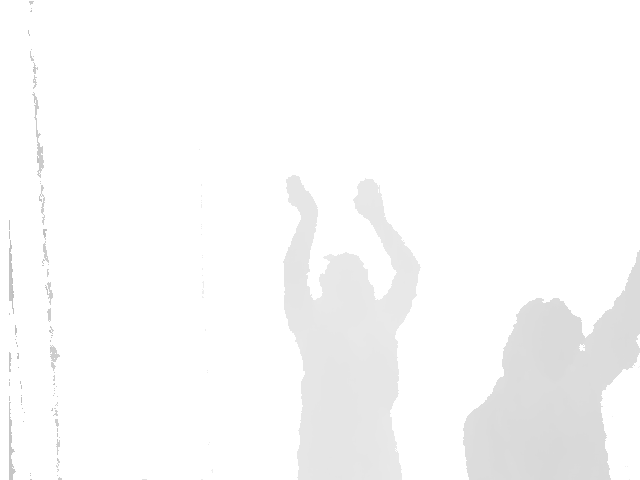hand: (352, 180, 387, 222), (286, 175, 319, 216)
head: (500, 298, 585, 383), (318, 253, 374, 308)
person: (280, 176, 422, 479), (461, 246, 640, 480)
